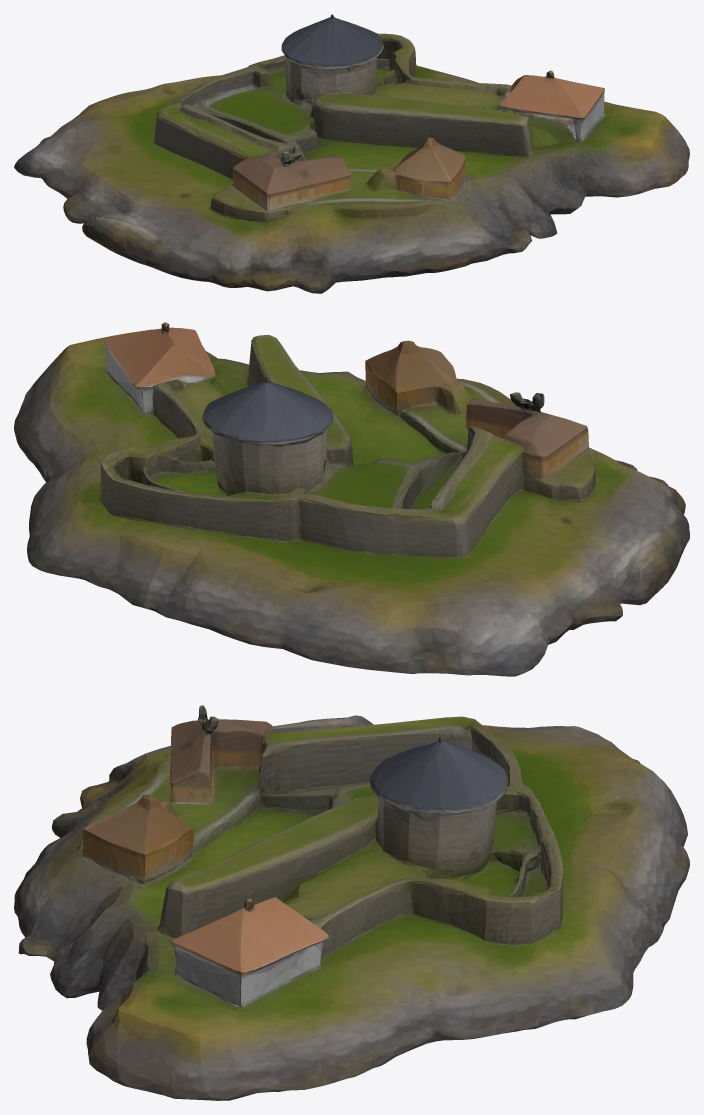
Rendered from munkholmen.glb.
3 views of the same model, one above another, from view 1: azimuth 30°, elevation 25°; view 2: azimuth 150°, elevation 25°; view 3: azimuth 270°, elevation 25° (orthographic). The views are drawn at different scales.
Visible parts, largest first — view 1: geometry_0; view 2: geometry_0; view 3: geometry_0.
Part boxes in pixels (bbox=[...]): geometry_0: bbox=[14, 14, 689, 293]; geometry_0: bbox=[14, 322, 689, 676]; geometry_0: bbox=[14, 705, 689, 1100].
Size of the model in its own units: 0.998 by 0.2523 by 0.7732.
Materials: 1 (1 with a texture image).
